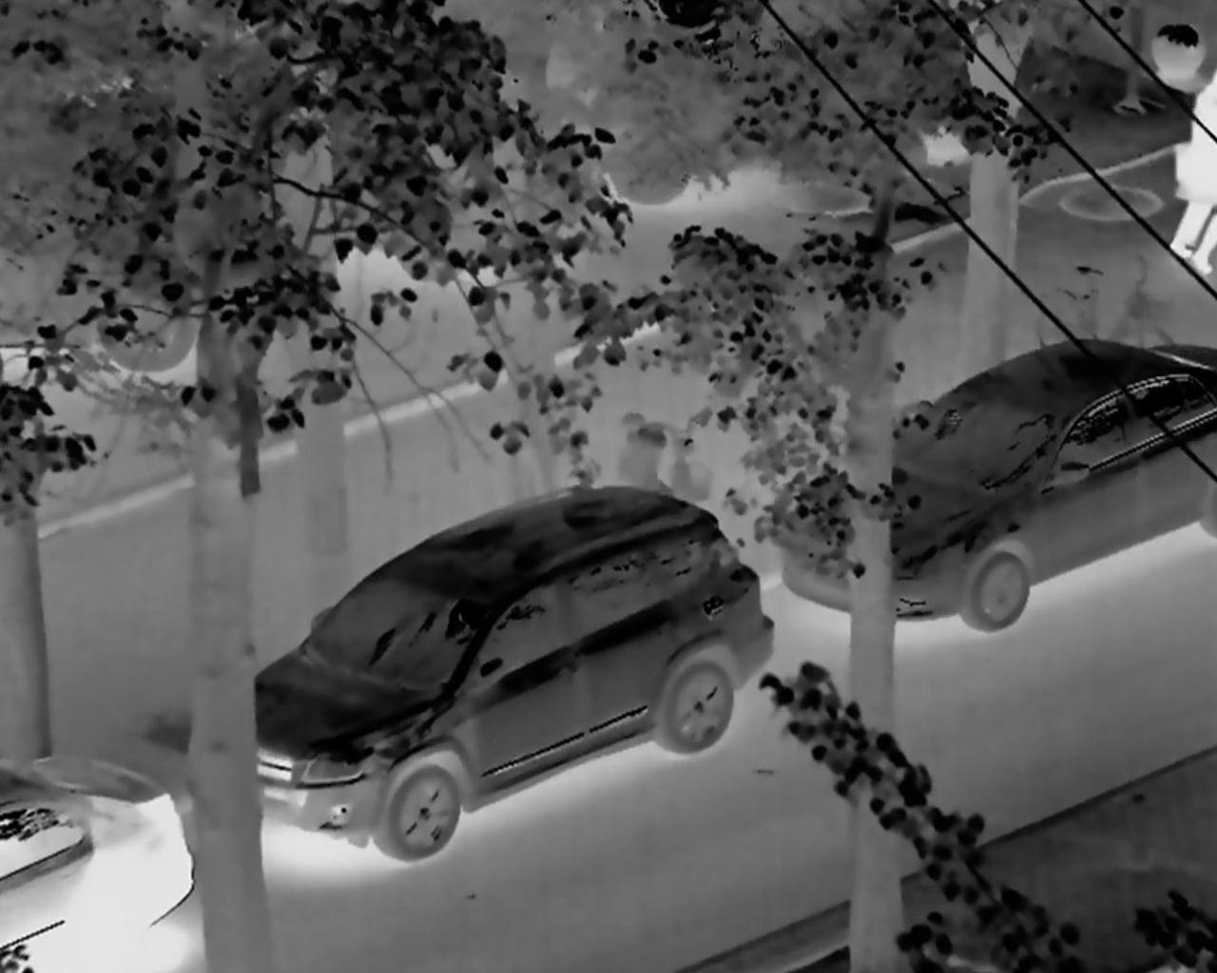person: (1168, 52, 1217, 310)
